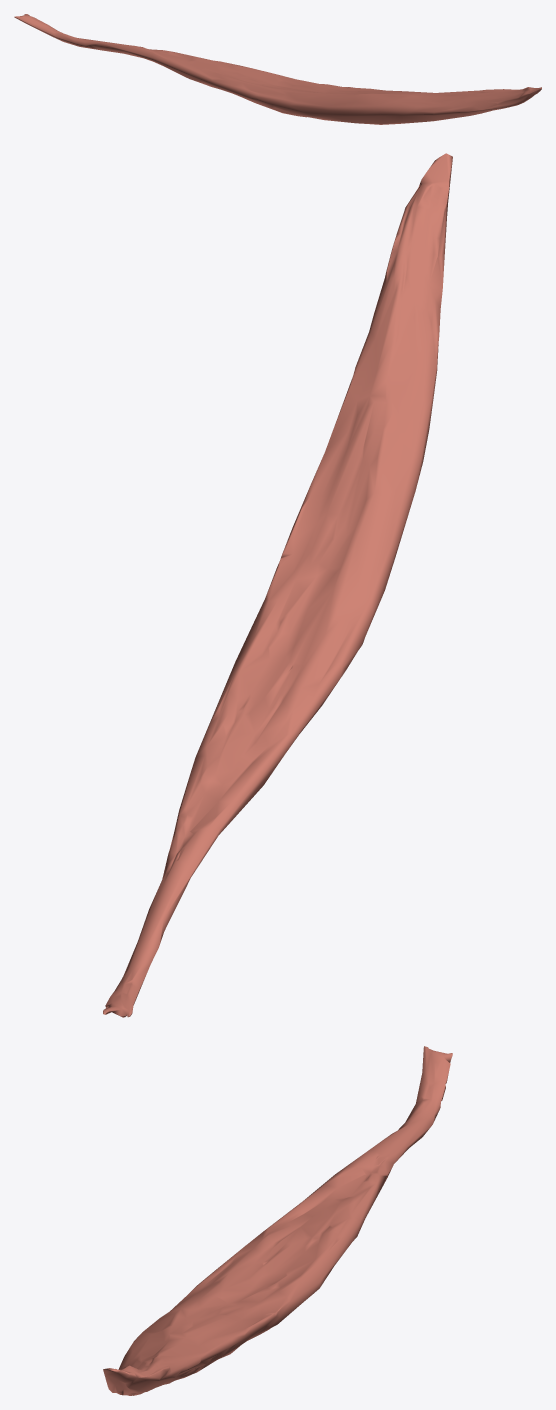
The picture shows the model from 3 angles, top to bottom: view 1: azimuth 30°, elevation 25°; view 2: azimuth 150°, elevation 25°; view 3: azimuth 330°, elevation 25°; orthographic projection. The views are drawn at different scales.
Visible parts, largest first — view 1: 右侧桡侧腕屈肌; view 2: 右侧桡侧腕屈肌; view 3: 右侧桡侧腕屈肌.
Part boxes in pixels (x1=…): 右侧桡侧腕屈肌: x1=14, y1=14, x2=541, y2=124; 右侧桡侧腕屈肌: x1=103, y1=153, x2=452, y2=1017; 右侧桡侧腕屈肌: x1=103, y1=1046, x2=452, y2=1395.
Size of the model in its own units: 0.1335 by 0.0996 by 0.4211.
